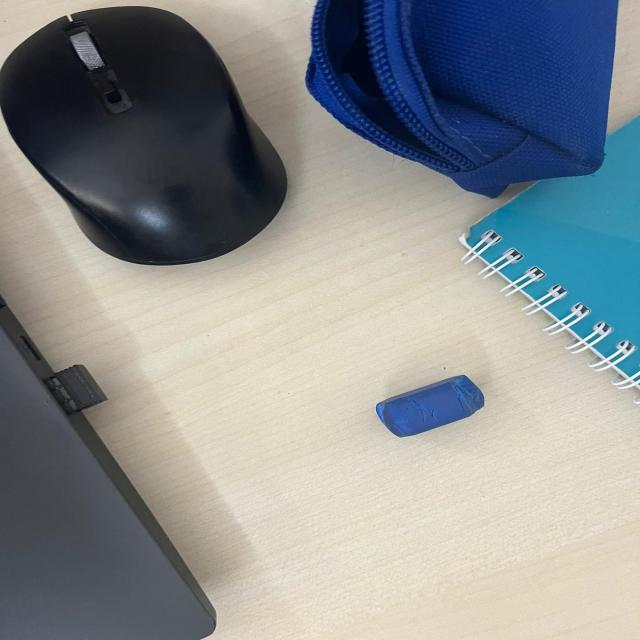eraser: (369, 371, 488, 441)
